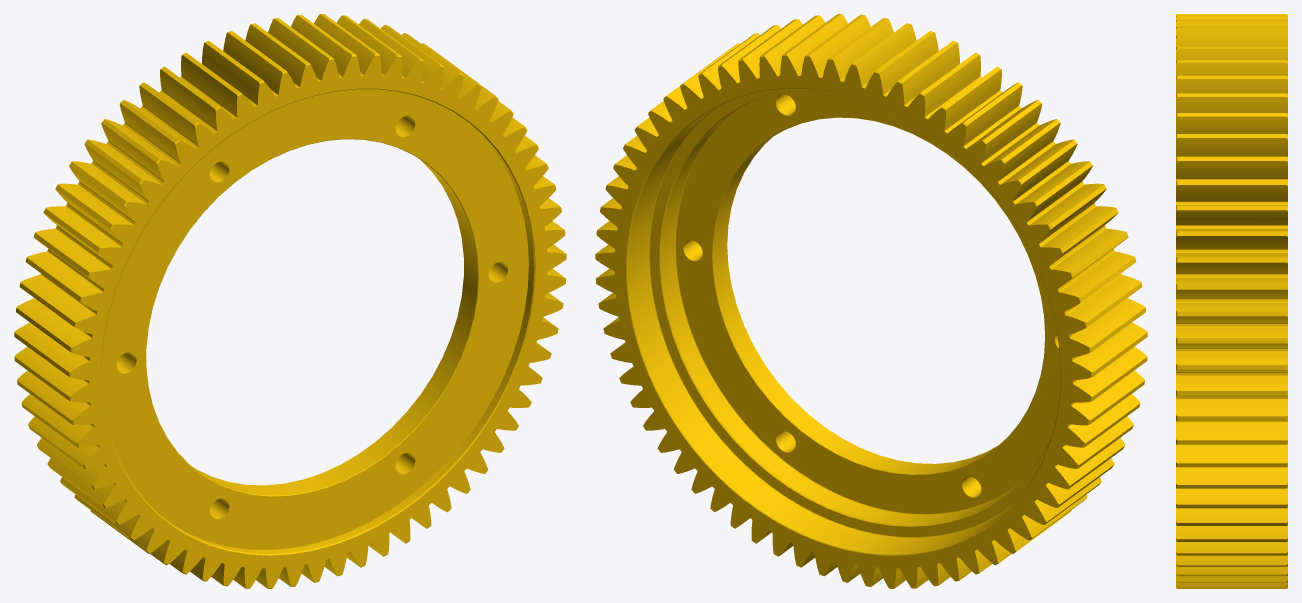
Rendered from 105_roata dintata Z=64.fbx.
3 views of the same model, side by side, from view 1: azimuth 30°, elevation 25°; view 2: azimuth 150°, elevation 25°; view 3: azimuth 270°, elevation 25° (orthographic).
Visible parts, largest first — view 1: 105_roata dintata Z=64; view 2: 105_roata dintata Z=64; view 3: 105_roata dintata Z=64.
Part boxes in pixels (bbox=[...]): 105_roata dintata Z=64: bbox=[14, 14, 566, 588]; 105_roata dintata Z=64: bbox=[595, 14, 1147, 588]; 105_roata dintata Z=64: bbox=[1176, 14, 1287, 588].
Size of the model in its own units: 97.79 by 97.77 by 19.
